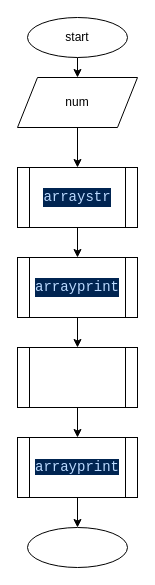
Image size: 155x585. Some labels were removed from this diagram. The shapes that lost their labels are listed below. From the top down, each one's centre as x and y in pixels, then its label:
the point at 77,377: arrayrezult
the point at 77,547: finish
